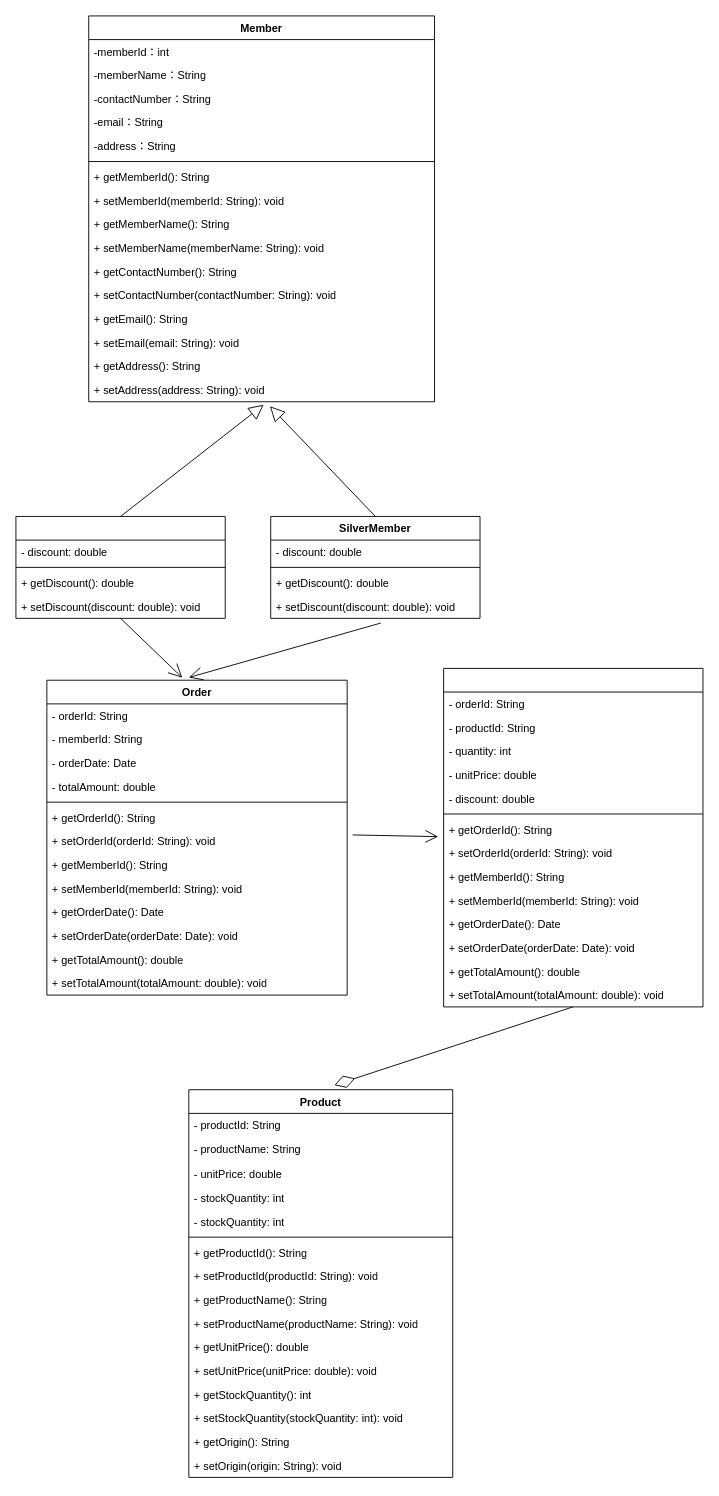
Some shapes in this 719 by 1496 pixel diagram are drawn without their labels. Each missing label, with the box of its shape:
GoldMember: (15, 516, 225, 618)
ProductItem: (443, 667, 703, 1007)
